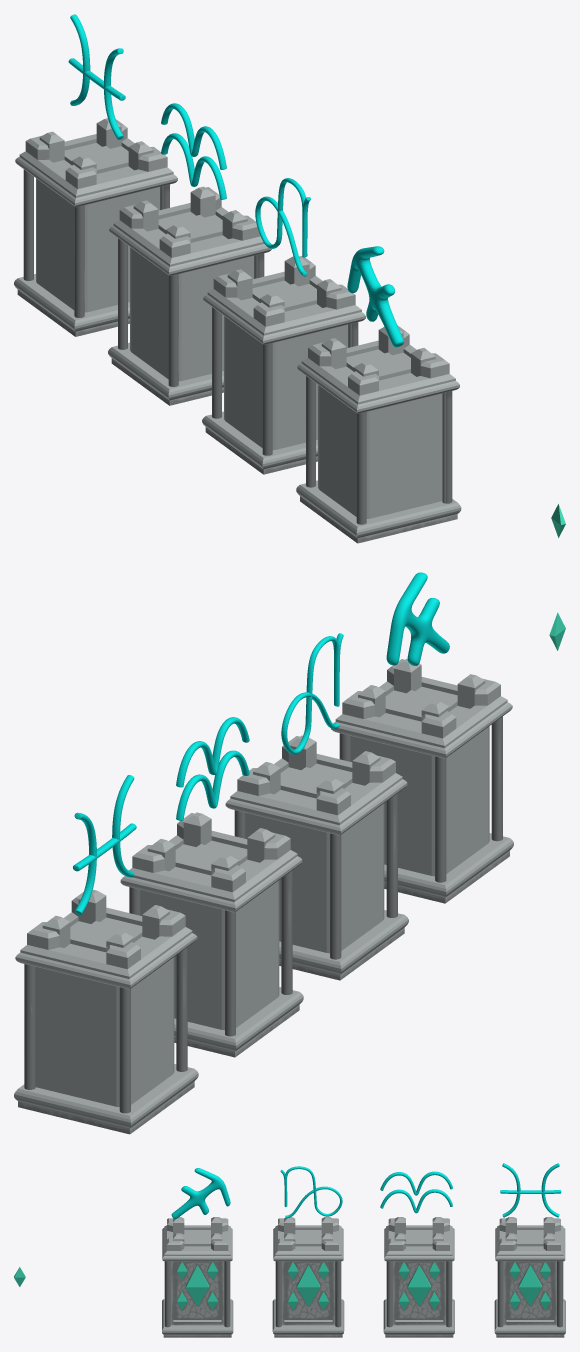
Rendered from STATUE3.fbx.
3 views of the same model, one above another, from view 1: azimuth 30°, elevation 25°; view 2: azimuth 150°, elevation 25°; view 3: azimuth 270°, elevation 25° (orthographic). The views are drawn at different scales.
Parts seen in each view (by area): view 1: Cube, Cube.007, Cube.004, Cube.001, Cube.009, NurbsCurve.002, NurbsCurve.005, NurbsCurve; view 2: Cube.007, Cube.004, Cube.001, Cube, Cube.009, NurbsCurve.002, NurbsCurve.005, NurbsCurve; view 3: Cube.001, Cube.007, Cube.004, Cube, Cube.009, Cube.003, Cube.008, Cube.002, Cube.005, NurbsCurve.002, NurbsCurve.005, NurbsCurve.
Part boxes in pixels (bbox=[...]): Cube: bbox=[296, 325, 461, 543]; Cube.007: bbox=[14, 118, 177, 336]; Cube.004: bbox=[108, 186, 271, 405]; Cube.001: bbox=[202, 256, 365, 474]; Cube.009: bbox=[347, 246, 403, 347]; NurbsCurve.002: bbox=[161, 103, 226, 199]; NurbsCurve.005: bbox=[68, 14, 125, 139]; NurbsCurve: bbox=[255, 178, 310, 276]; Cube.007: bbox=[14, 889, 198, 1134]; Cube.004: bbox=[120, 812, 303, 1057]; Cube.001: bbox=[225, 735, 408, 980]; Cube: bbox=[331, 658, 513, 903]; Cube.009: bbox=[386, 572, 449, 665]; NurbsCurve.002: bbox=[176, 717, 249, 820]; NurbsCurve.005: bbox=[73, 775, 136, 914]; NurbsCurve: bbox=[281, 633, 343, 754]; Cube.001: bbox=[272, 1217, 344, 1337]; Cube.007: bbox=[494, 1217, 565, 1337]; Cube.004: bbox=[383, 1217, 454, 1337]; Cube: bbox=[162, 1217, 233, 1337]; Cube.009: bbox=[171, 1168, 230, 1219]; Cube.003: bbox=[176, 1262, 217, 1310]; Cube.008: bbox=[509, 1262, 550, 1310]; Cube.002: bbox=[287, 1262, 328, 1310]; Cube.005: bbox=[398, 1262, 439, 1310]; NurbsCurve.002: bbox=[380, 1171, 452, 1213]; NurbsCurve.005: bbox=[500, 1163, 561, 1217]; NurbsCurve: bbox=[280, 1166, 342, 1218].
Size of the model in its own units: 257 by 637 by 1991.
3 materials, 1 textured.
